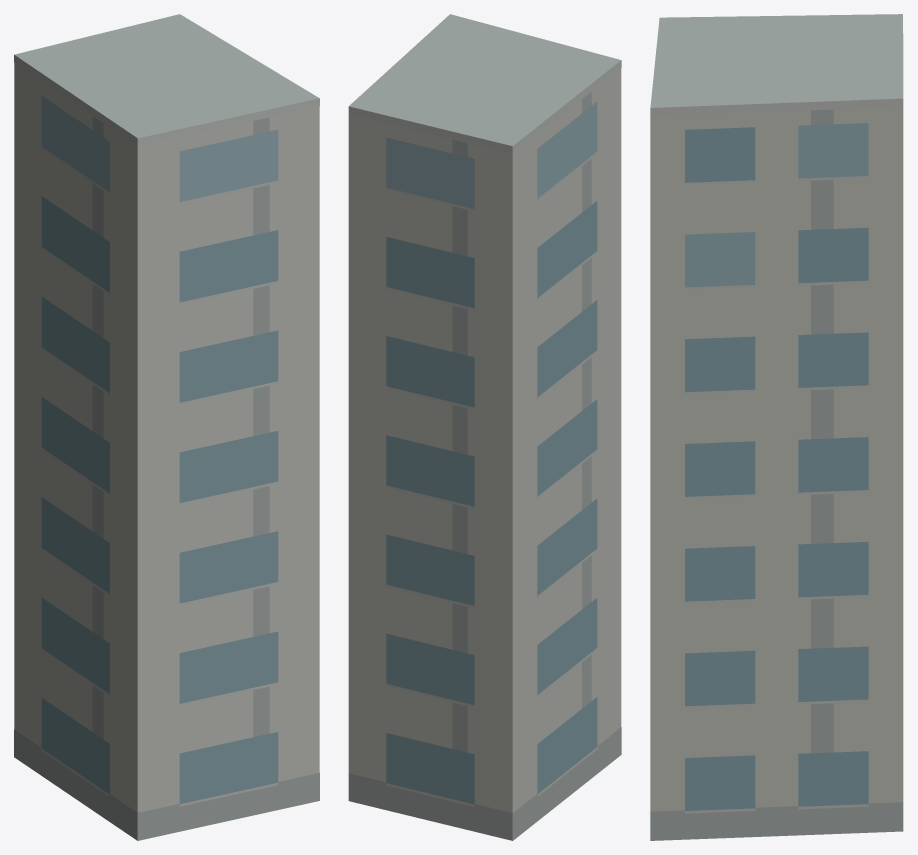
File: survey-upis-32459054.glb
3 views of the same model, side by side, from view 1: azimuth 30°, elevation 25°; view 2: azimuth 150°, elevation 25°; view 3: azimuth 270°, elevation 25° (orthographic). The views are drawn at different scales.
Visible parts, largest first — view 1: survey-upis-32459054.tmp; view 2: survey-upis-32459054.tmp; view 3: survey-upis-32459054.tmp.
Part boxes in pixels (box(x1,y1,x2,y2)): survey-upis-32459054.tmp: box(14, 14, 319, 840); survey-upis-32459054.tmp: box(348, 14, 621, 840); survey-upis-32459054.tmp: box(650, 14, 903, 840).
Size of the model in its own units: 5.88 by 21.35 by 6.7.
